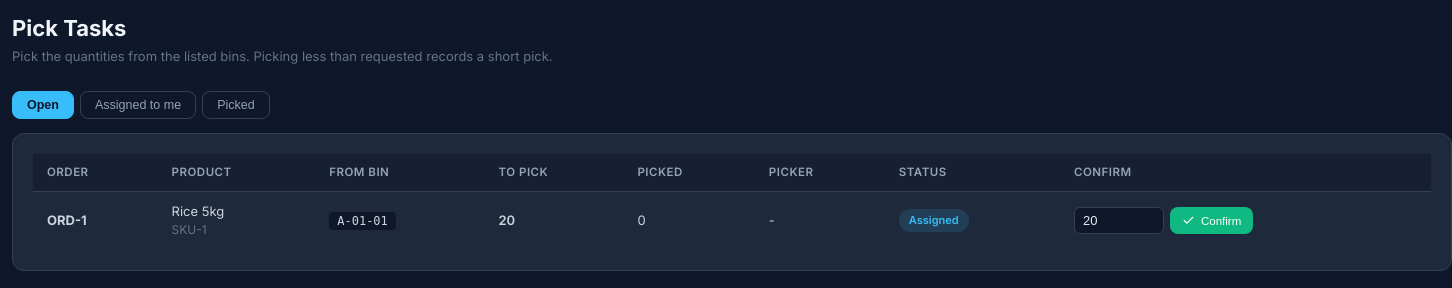
Pick tasks page › records a short pick when fewer units are found
This screenshot has width=1452, height=288.
Replace the text in the number field named "Quantity picked for SKU-1" with "15" at (1119, 220), box x1=1074 y1=207 x2=1164 y2=234
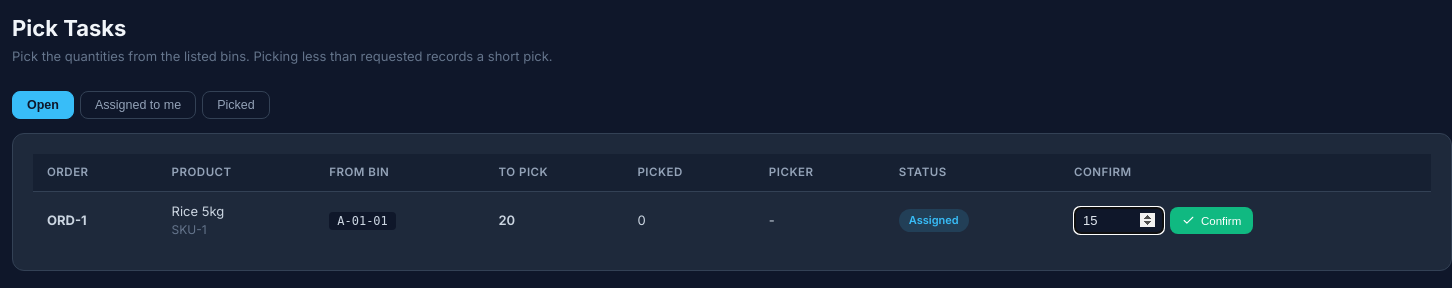
Click the button "Confirm".
click(1212, 220)  # box x1=1170 y1=207 x2=1253 y2=234
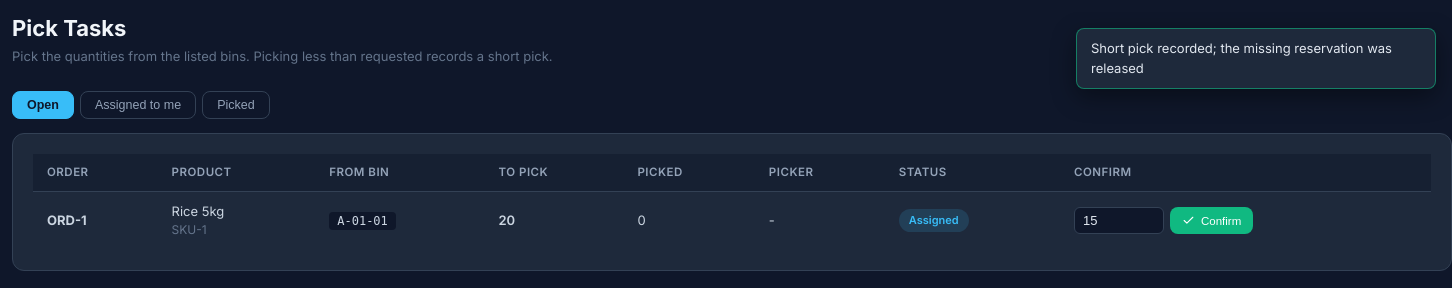
Expected: the text "Short pick recorded; the missing reservation was released" is shown, x1=1076 y1=28 x2=1436 y2=89
